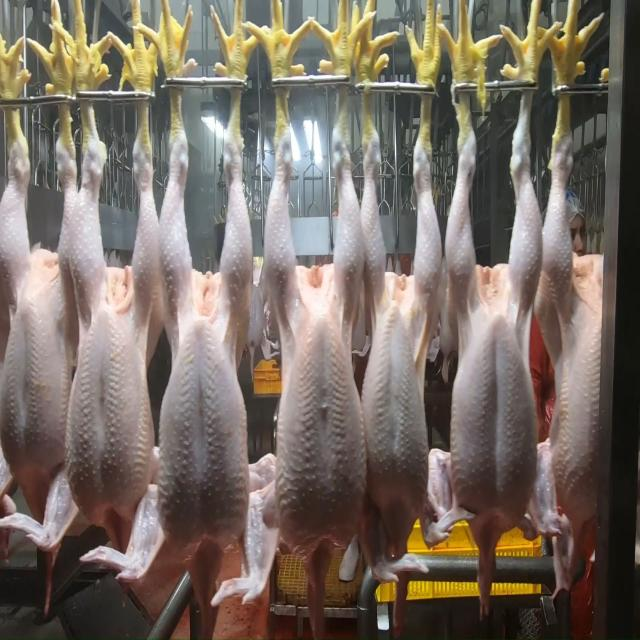chicken: (151, 111, 255, 549), (265, 122, 368, 560), (445, 85, 539, 552), (66, 106, 162, 539), (362, 132, 441, 544), (540, 121, 605, 523), (0, 136, 68, 504)
